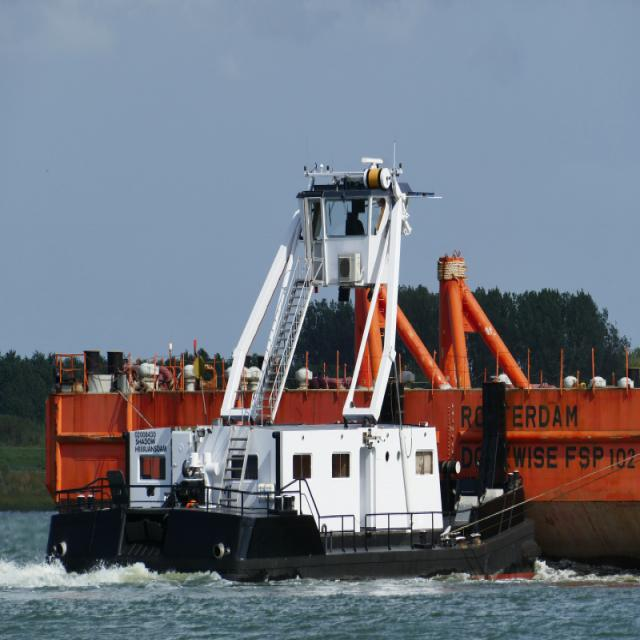tugboat: (38, 140, 544, 597)
